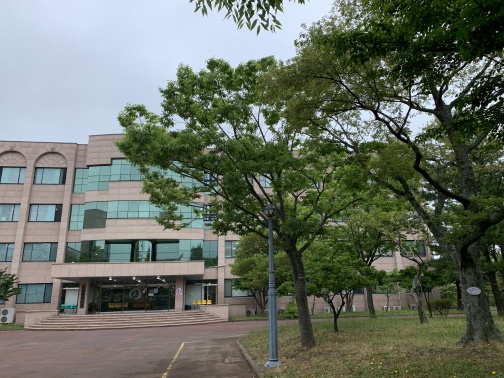Natural Science2: (3, 123, 260, 328)
